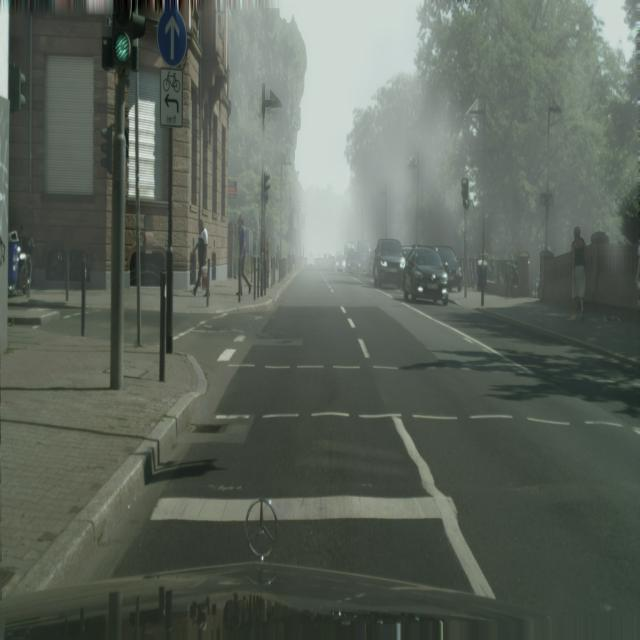person: (571, 227, 586, 321), (192, 218, 209, 298), (236, 216, 252, 300)
truck: (402, 246, 450, 307), (372, 238, 405, 289), (435, 247, 463, 291), (357, 241, 371, 274)
